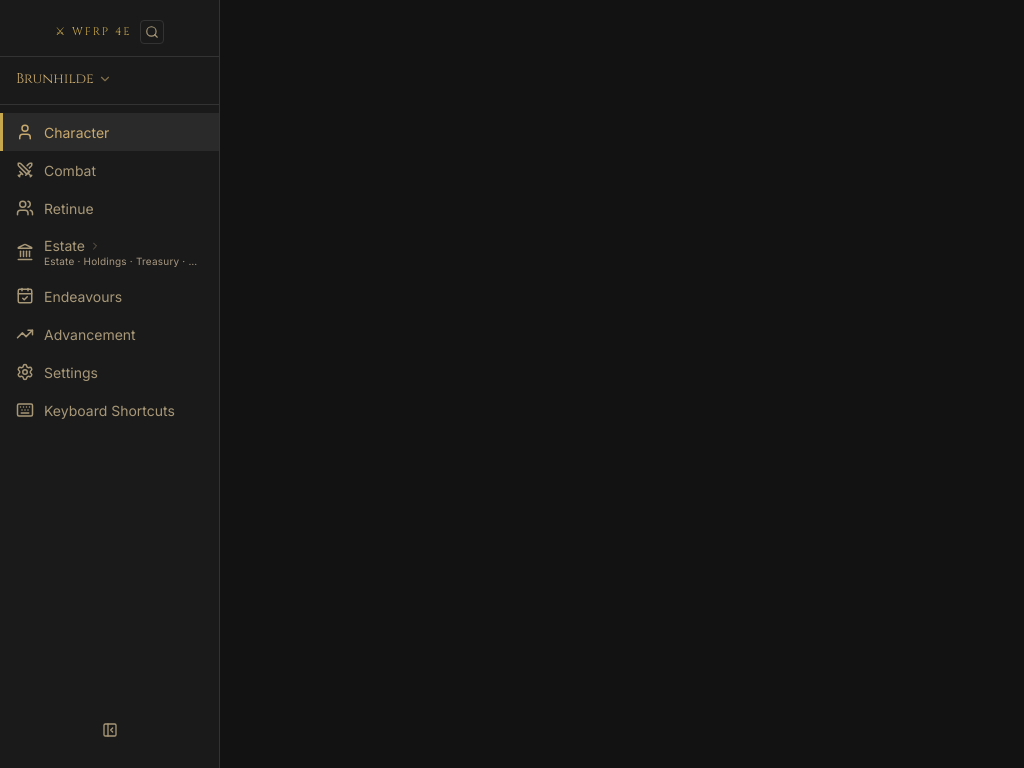
Test: Navigation delete confirmation › clicking delete button opens ConfirmDialog with the character name in the message
What coordinates should you click on to do the following:
click the button titled "Switch character"
I would click on:
 (64, 78)
Its box is x1=16 y1=69 x2=112 y2=88.
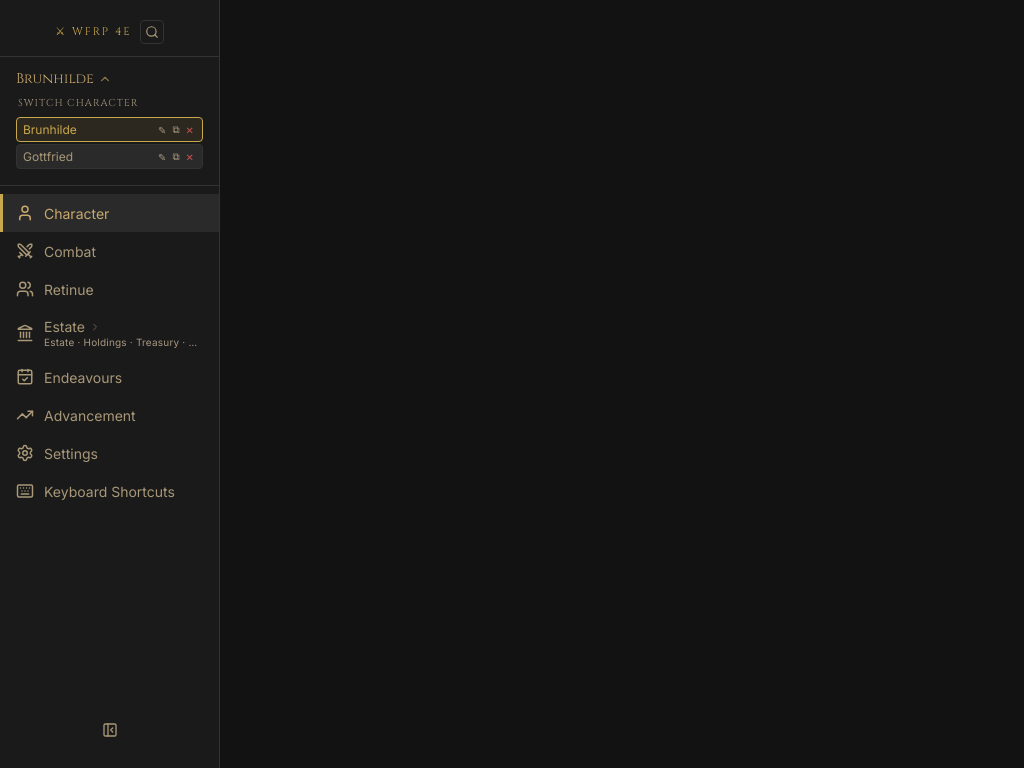
What coordinates should you click on to do the following:
click the 2nd button titled "Delete"
I would click on:
 (190, 156)
Its box is x1=184 y1=150 x2=196 y2=162.
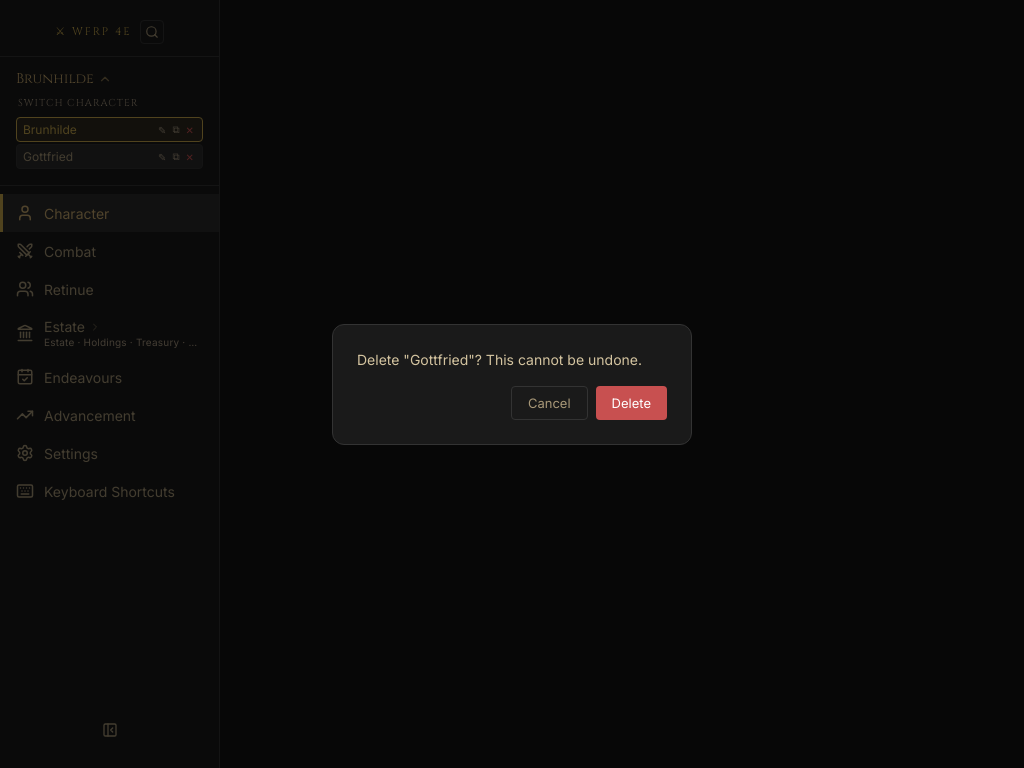
Now the dialog is shown
Now the dialog shows "Delete \"Gottfried\"? This cannot be undone.", box x1=357 y1=350 x2=642 y2=368
